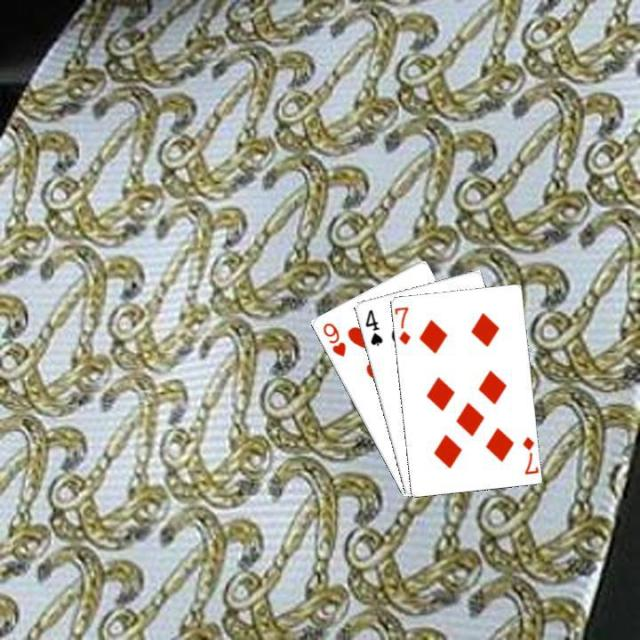4S: (361, 305, 384, 347)
7D: (392, 302, 412, 347), (518, 432, 538, 476)
9H: (318, 318, 348, 358)
